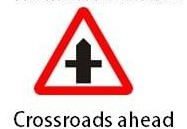Traffic signal: (33, 6, 134, 96)
